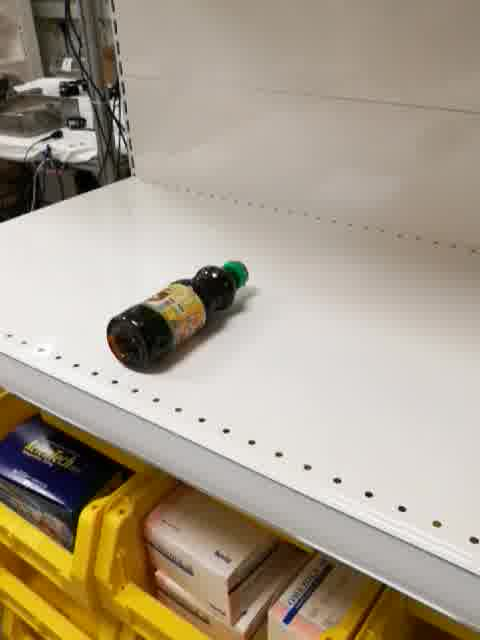cookingoil: (106, 259, 251, 373)
